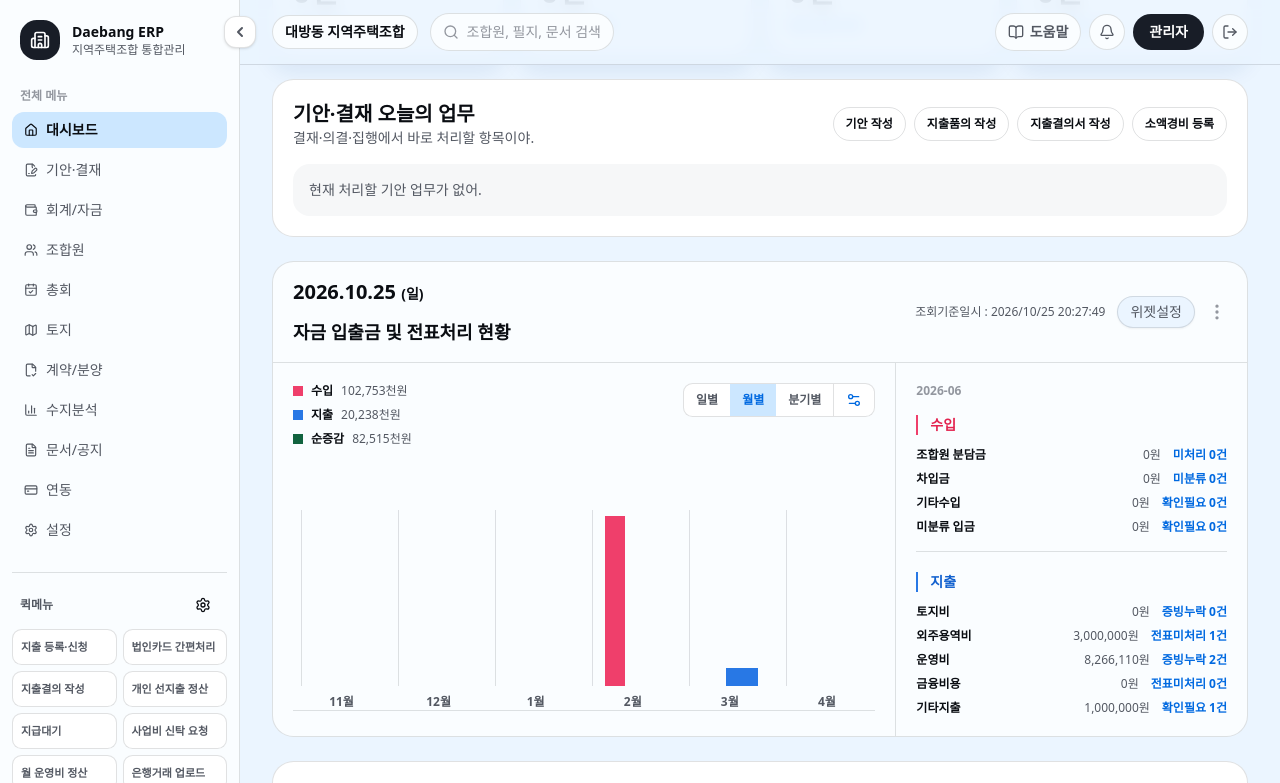
Test: DashboardPage › renders the cash flow and voucher processing widget with period settings
This screenshot has width=1280, height=783.
(page scrolled)
Expected: the heading "자금 입출금 및 전표처리 현황" is shown, top-left (293, 318), bottom-right (510, 346)
Expected: the text "조회기준일시 : 2026/10/25 20:27:49" is shown, top-left (915, 304), bottom-right (1106, 320)
Click the button named "조회기간 설정": (854, 400) top-left (833, 384), bottom-right (874, 416)
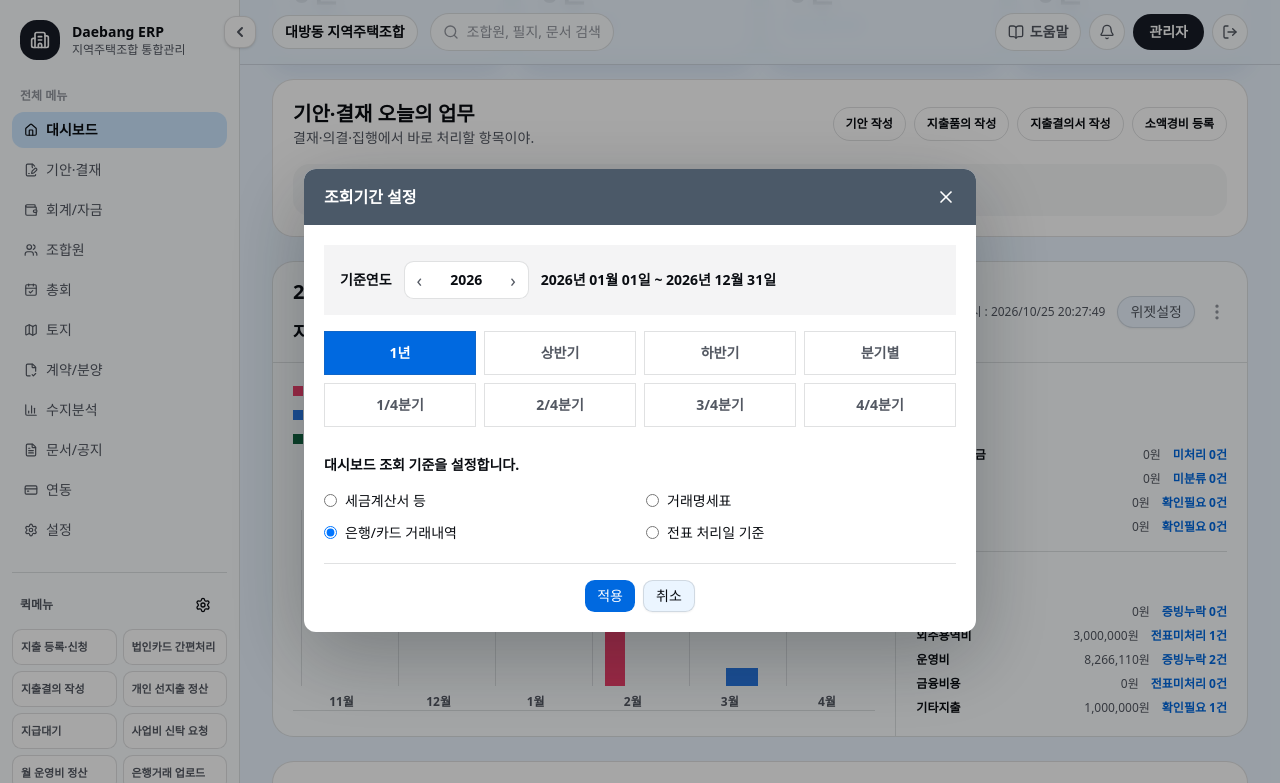
Result: the dialog "조회기간 설정" is shown at top-left (304, 168), bottom-right (976, 632)
Result: the text "2026년 01월 01일 ~ 2026년 12월 31일" is shown at top-left (541, 270), bottom-right (776, 290)
Result: the radio button labelled "은행/카드 거래내역" is checked at top-left (324, 526), bottom-right (337, 539)
